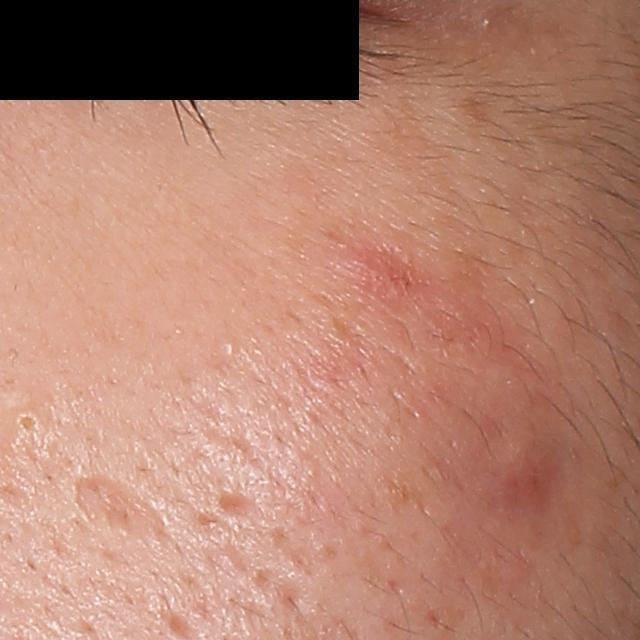atrophic_scar: (70, 473, 182, 557), (216, 479, 271, 536)
comedo: (12, 409, 44, 440)
